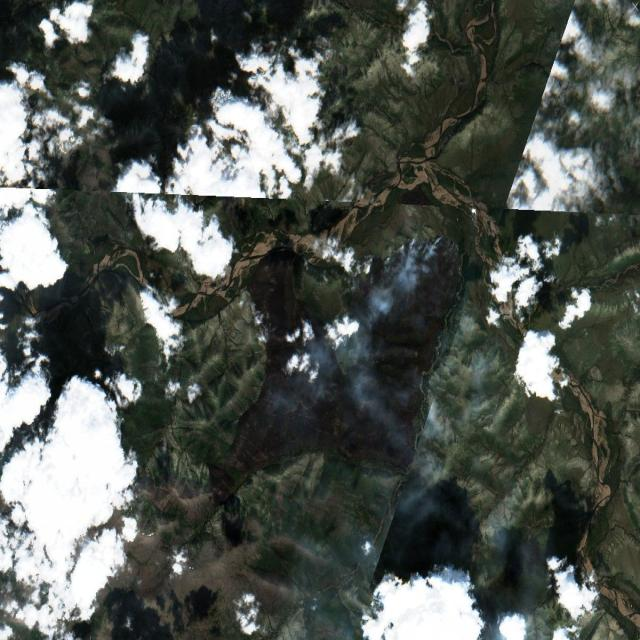fire: (343, 206, 470, 302)
